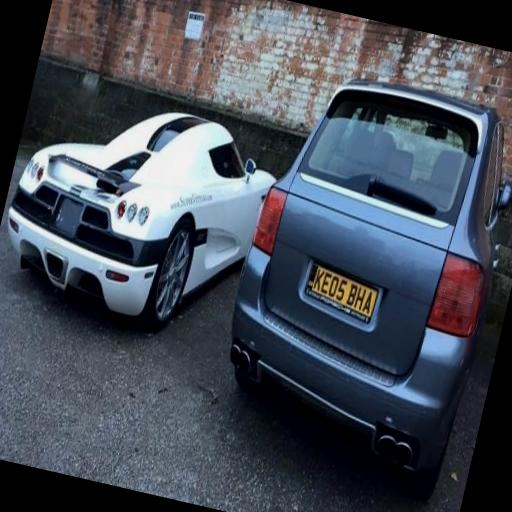numberplates: (305, 262, 378, 323)
